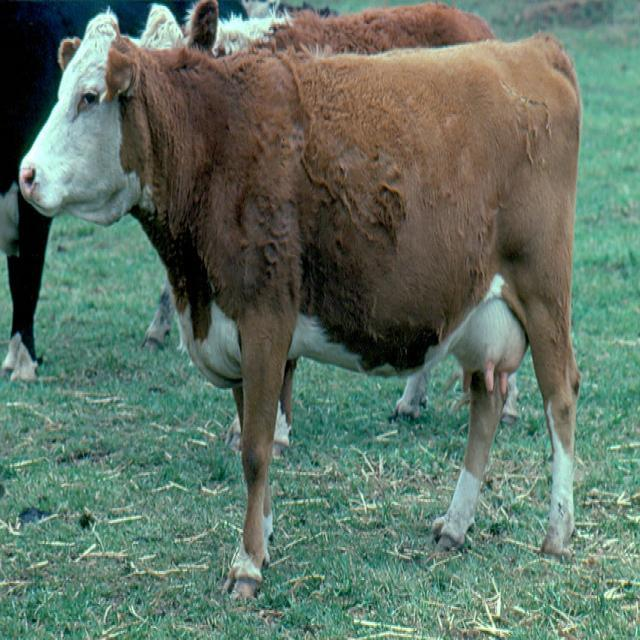cow: (15, 9, 583, 601), (130, 2, 515, 453), (0, 0, 255, 385)
